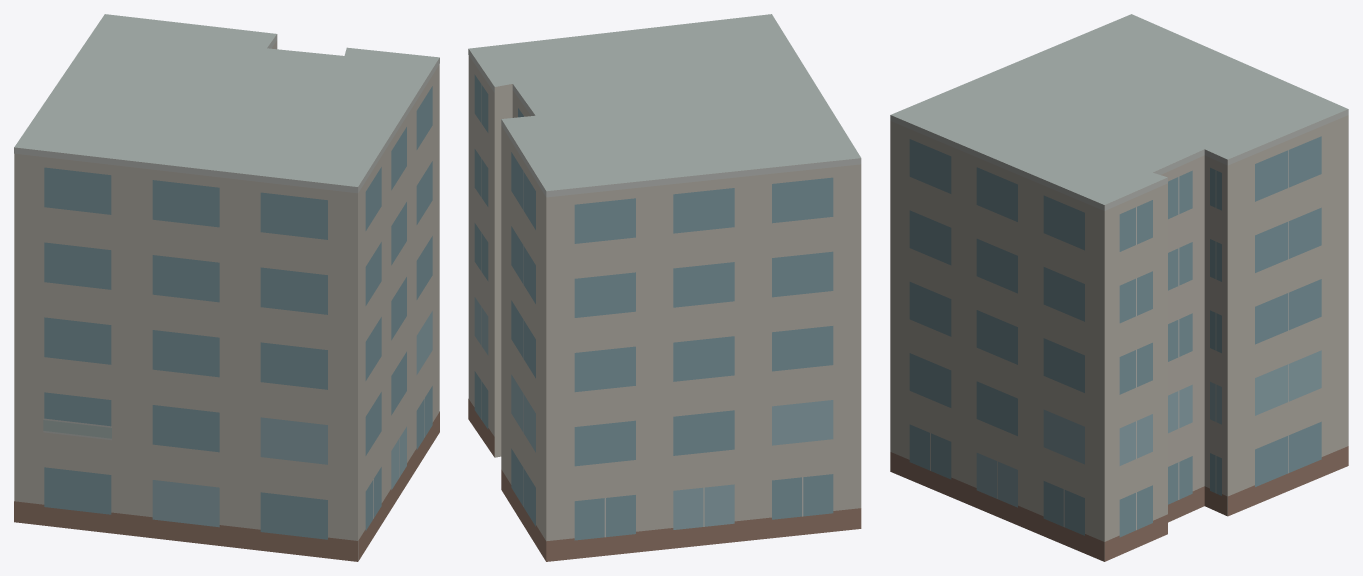
The model's file is survey-upis-33005799.glb.
3 views of the same model, side by side, from view 1: azimuth 30°, elevation 25°; view 2: azimuth 150°, elevation 25°; view 3: azimuth 270°, elevation 25° (orthographic). The views are drawn at different scales.
Visible parts, largest first — view 1: survey-upis-33005799.tmp; view 2: survey-upis-33005799.tmp; view 3: survey-upis-33005799.tmp.
Part boxes in pixels (left/top/right/bottom): survey-upis-33005799.tmp: left=14, top=14, right=439, bottom=561; survey-upis-33005799.tmp: left=468, top=14, right=861, bottom=561; survey-upis-33005799.tmp: left=890, top=14, right=1348, bottom=561.
Size of the model in its own units: 16.78 by 14.6 by 17.
